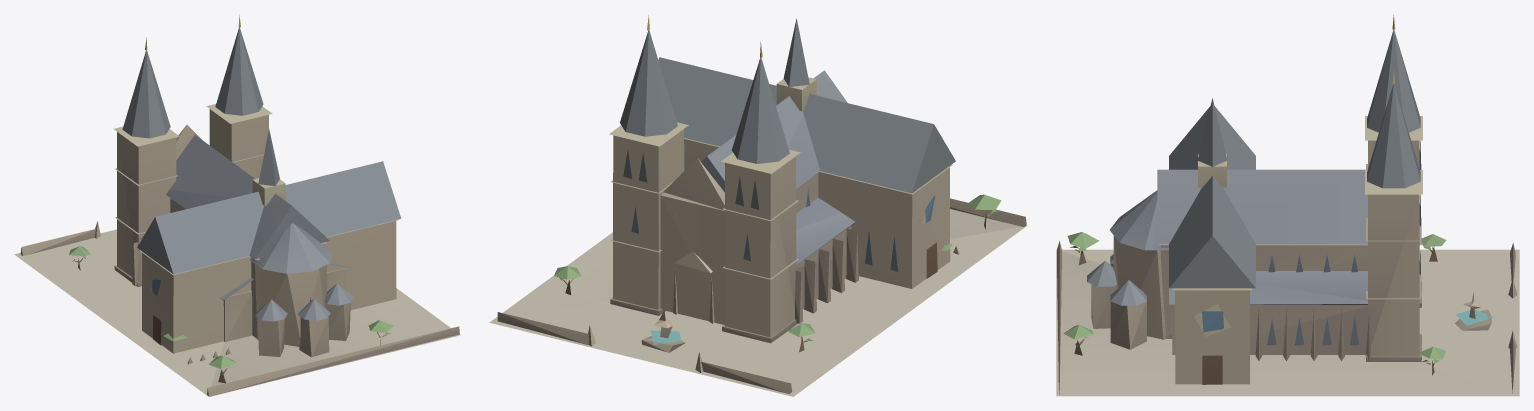
File: cathedral.lite.glb
3 views of the same model, side by side, from view 1: azimuth 30°, elevation 25°; view 2: azimuth 150°, elevation 25°; view 3: azimuth 270°, elevation 25° (orthographic). The views are drawn at different scales.
Parts seen in each view (by area): view 1: cathedral; view 2: cathedral; view 3: cathedral.
Part boxes in pixels (x1,y1,x2,y2): cathedral: (14, 14, 460, 396); cathedral: (489, 15, 1027, 396); cathedral: (1056, 15, 1519, 396).
Size of the model in its own units: 11.96 by 10.76 by 15.96.
